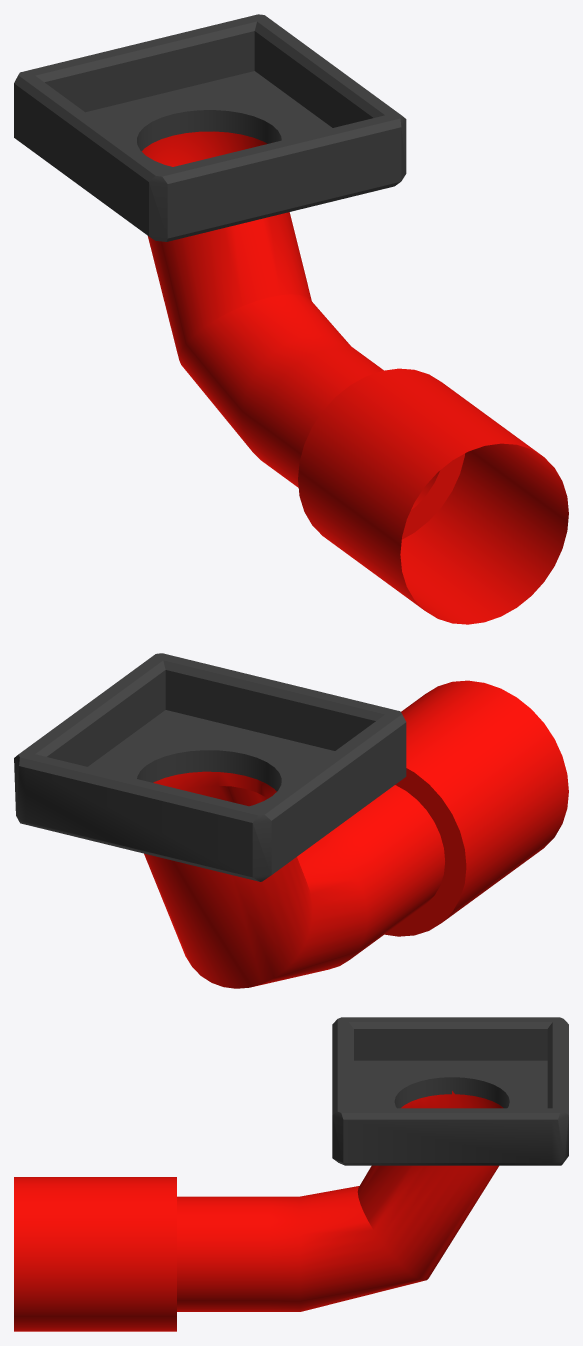
The model's file is RefuelPipe.fbx.
The picture shows the model from 3 angles, top to bottom: view 1: azimuth 30°, elevation 25°; view 2: azimuth 150°, elevation 25°; view 3: azimuth 270°, elevation 25°; orthographic projection. The views are drawn at different scales.
Parts seen in each view (by area): view 1: FuelPipe, Basin; view 2: FuelPipe, Basin; view 3: FuelPipe, Basin.
Boxes of the visible parts, x1,y1,x2,y2 form: FuelPipe: [142, 131, 568, 624]; Basin: [14, 14, 406, 241]; FuelPipe: [144, 680, 568, 988]; Basin: [14, 653, 406, 881]; FuelPipe: [14, 1091, 503, 1331]; Basin: [332, 1017, 568, 1165].
Bounding box in the file's own units: 200 × 242 × 469.
